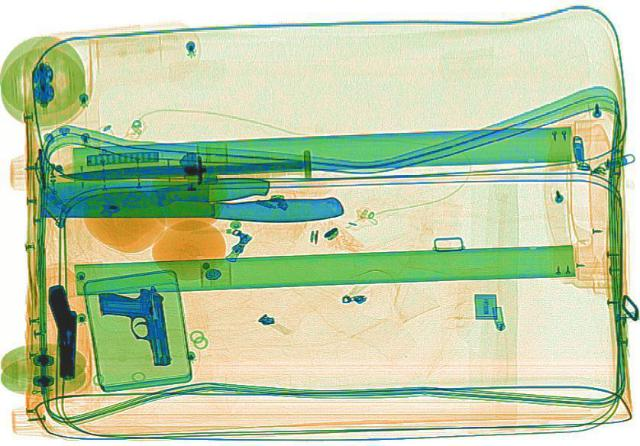Gun: (94, 283, 176, 366), (43, 282, 87, 377)
Knife: (36, 172, 344, 224), (32, 172, 272, 215), (56, 159, 304, 179)
